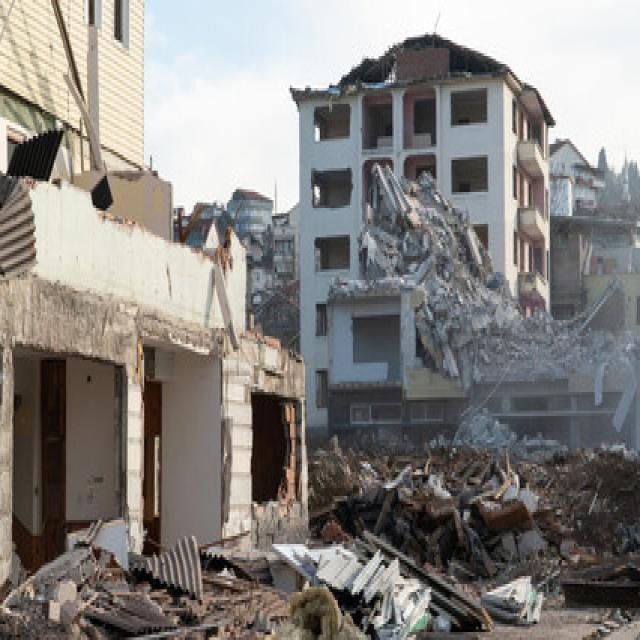Destroyed_building: (204, 5, 636, 640)
